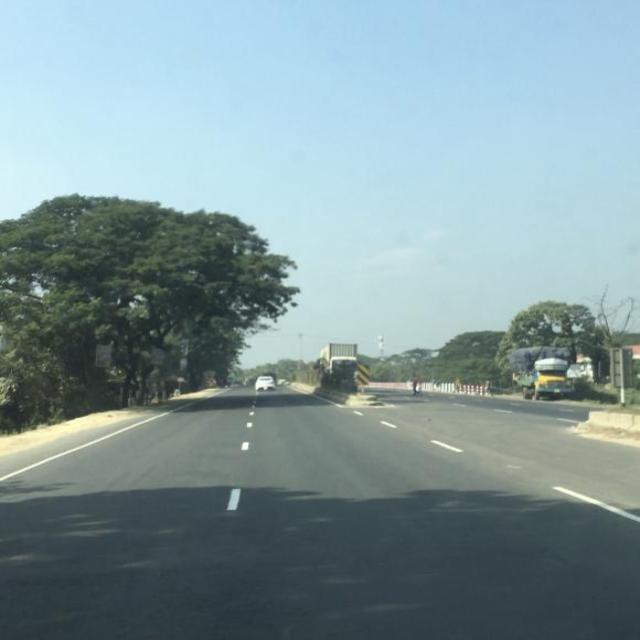car: (250, 372, 274, 390)
truck: (505, 354, 574, 399)
